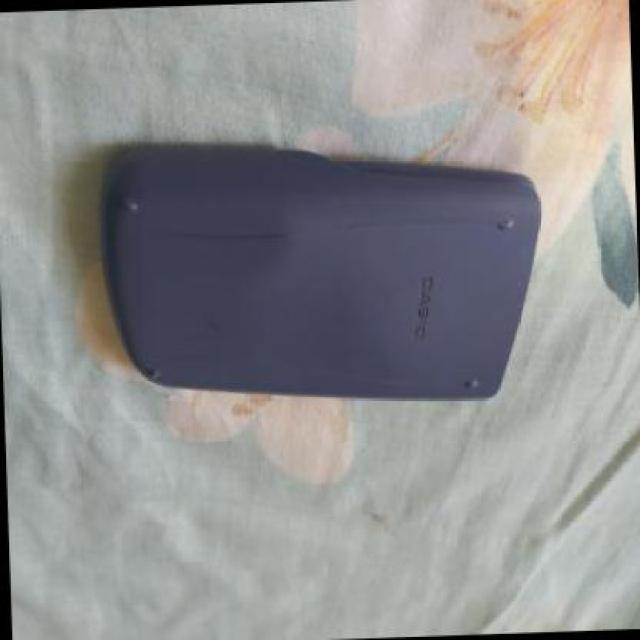Calculator: (91, 112, 555, 420)
